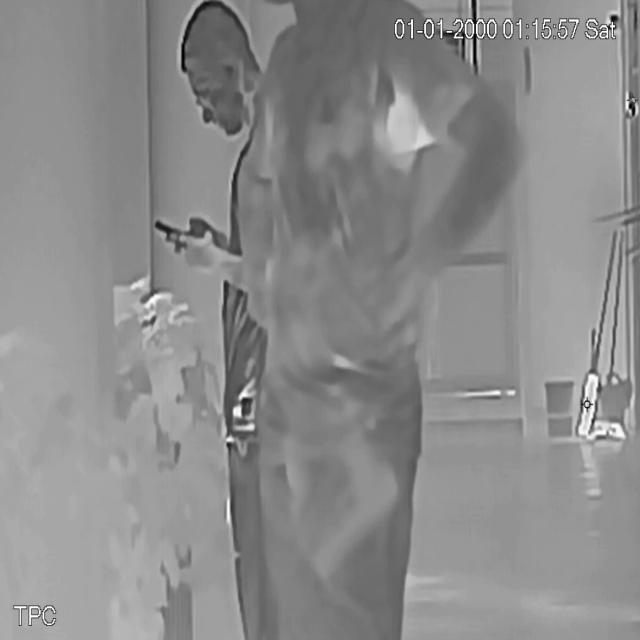Weapon: (294, 421, 411, 591)
